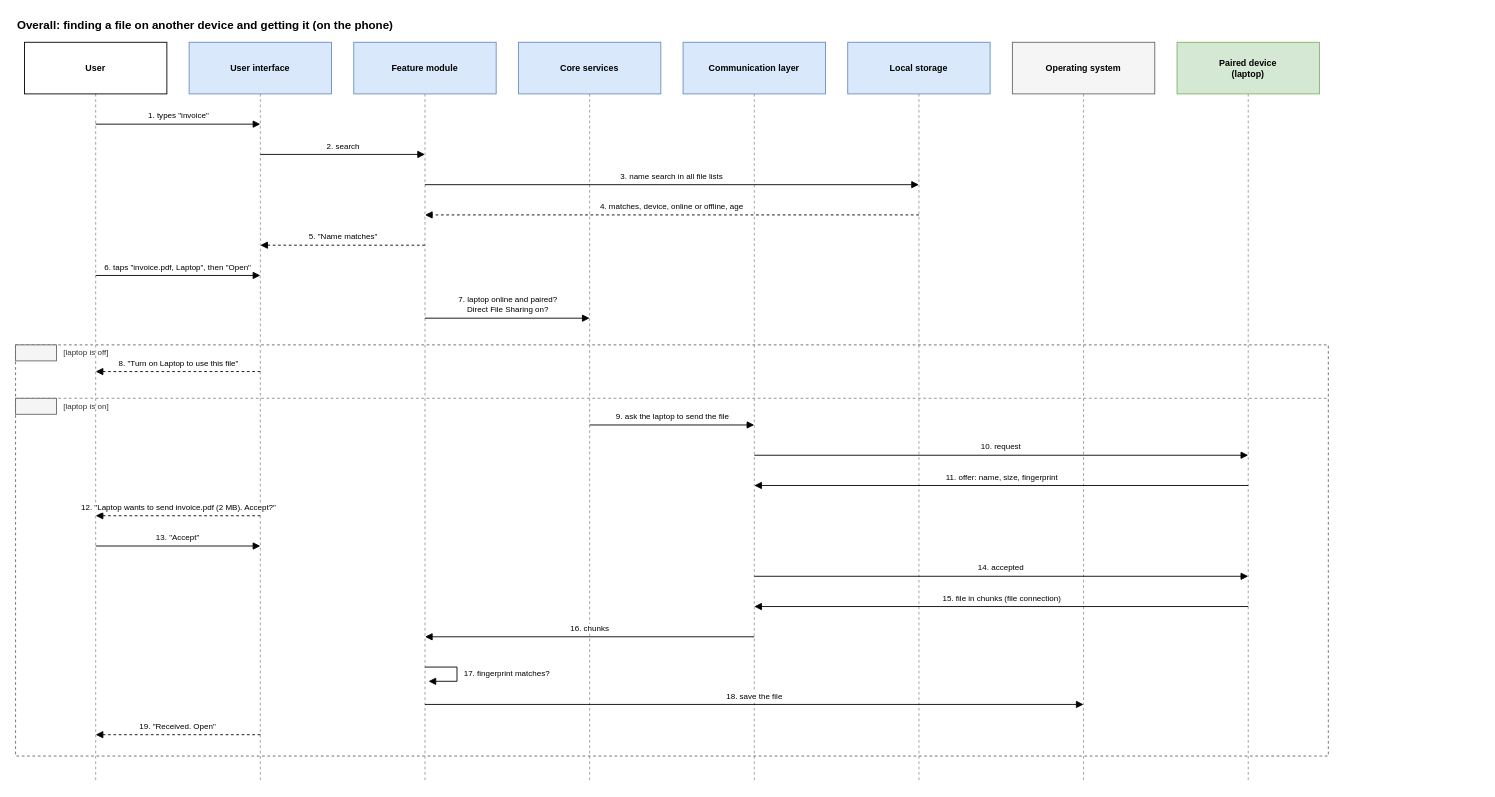
Image size: 1495x797. Some labels were removed from this diagram. The box of each missing label's shape, as (x1, y1, x2, y2) in pixels:
alt: (15, 344, 57, 361)
else: (15, 397, 57, 414)
